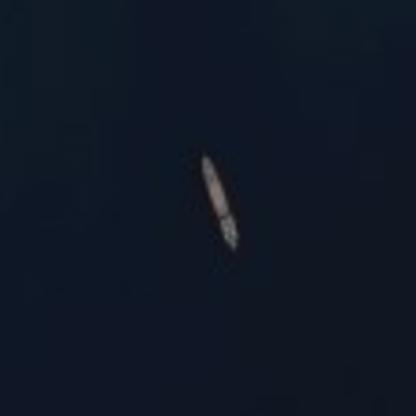ship: (192, 149, 248, 254)
